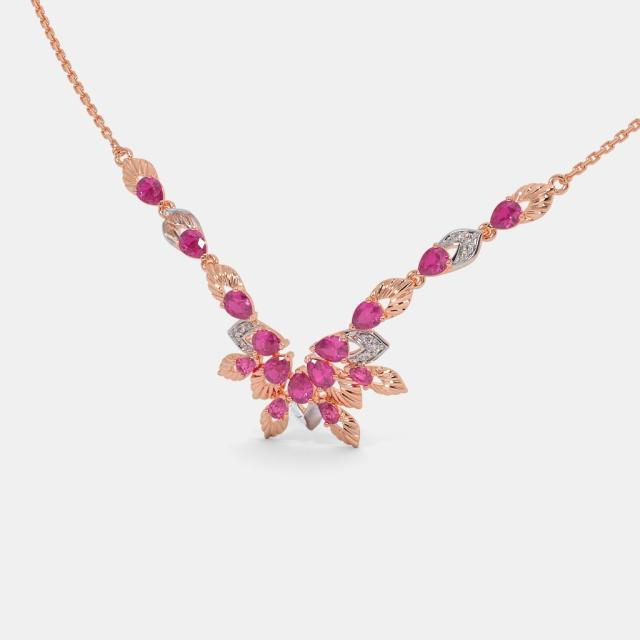missing gem: (161, 208, 206, 254), (298, 403, 323, 433)
